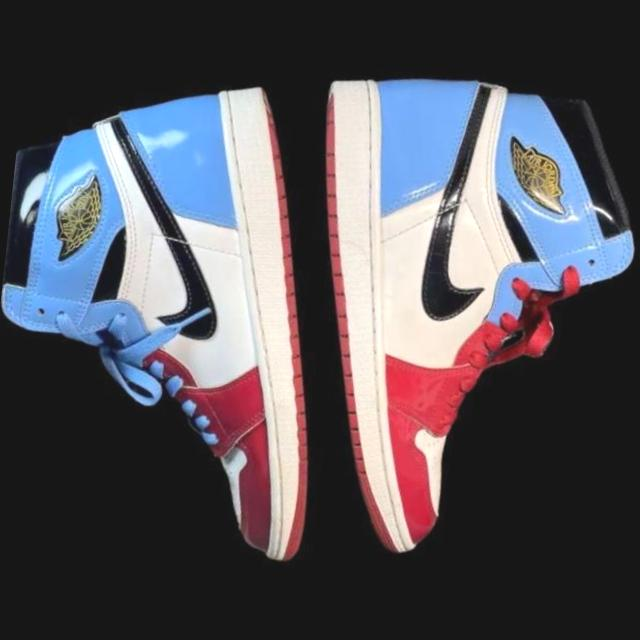nike_original_jordan: (265, 24, 640, 586), (0, 53, 373, 616)
